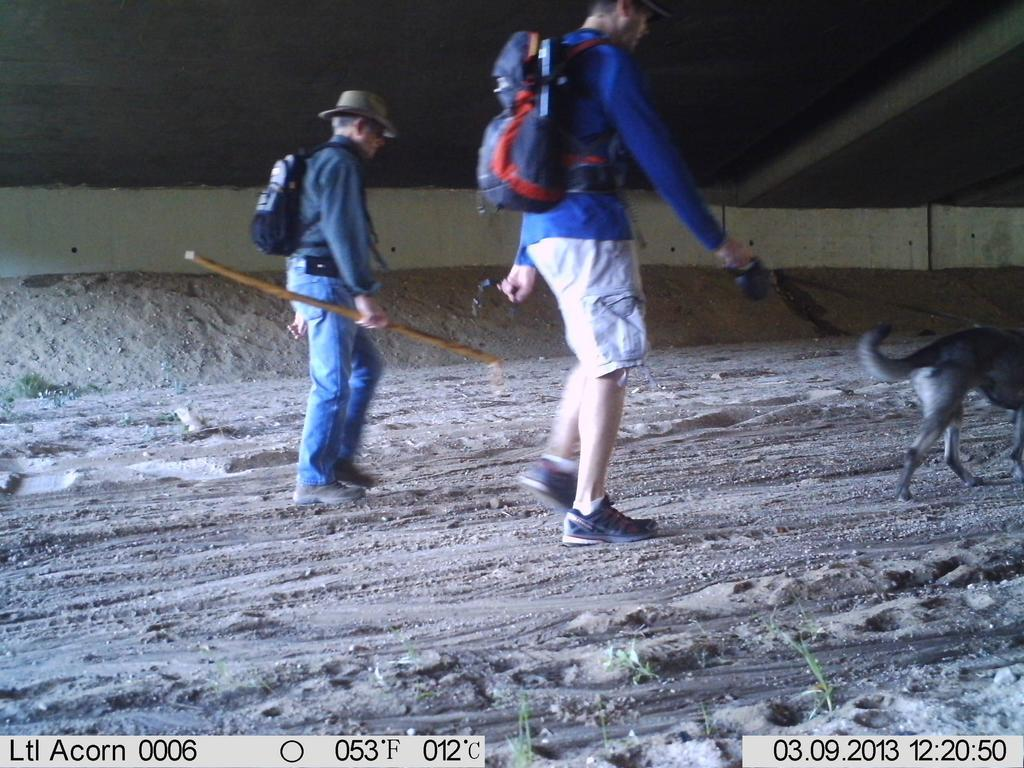dog: (845, 311, 1024, 517)
